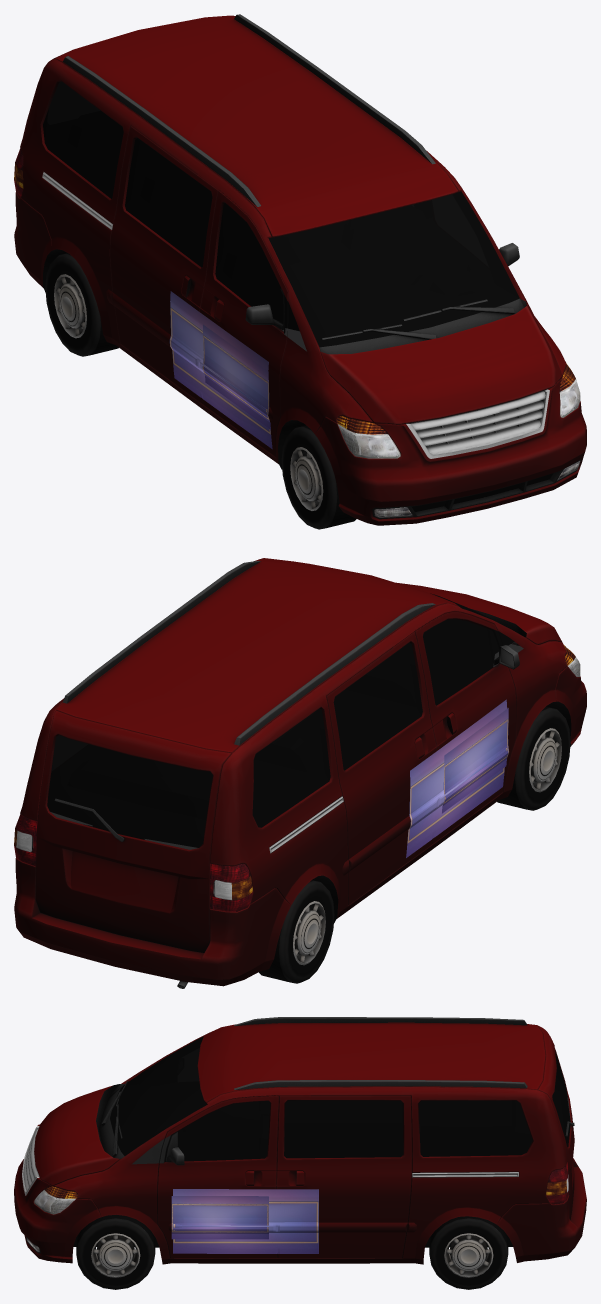
The model's file is minivan.glb.
3 renders of one model, top to bottom at view 1: azimuth 30°, elevation 25°; view 2: azimuth 150°, elevation 25°; view 3: azimuth 270°, elevation 25°, orthographic. The views are drawn at different scales.
Visible parts, largest first — view 1: minivan body, dsRight, Wheel_D002, Wheel_D003, sRight; view 2: minivan body, dsRight, Wheel_D003, Wheel_D002, sRight; view 3: minivan body, dsLeft, Wheel_D, Wheel_D001, sLeft.
Boxes of the visible parts, x1=… form: minivan body: x1=14, y1=14, x2=586, y2=525; dsRight: x1=169, y1=291, x2=272, y2=449; Wheel_D002: x1=281, y1=425, x2=356, y2=529; Wheel_D003: x1=45, y1=253, x2=118, y2=356; sRight: x1=202, y1=324, x2=270, y2=429; minivan body: x1=14, y1=558, x2=586, y2=988; dsRight: x1=406, y1=699, x2=507, y2=857; Wheel_D003: x1=258, y1=880, x2=334, y2=983; Wheel_D002: x1=497, y1=706, x2=570, y2=810; sRight: x1=442, y1=708, x2=508, y2=813; minivan body: x1=14, y1=1017, x2=586, y2=1264; dsLeft: x1=173, y1=1189, x2=318, y2=1253; Wheel_D: x1=76, y1=1215, x2=155, y2=1289; Wheel_D001: x1=429, y1=1216, x2=508, y2=1289; sLeft: x1=171, y1=1196, x2=268, y2=1239.
Size of the model in its own units: 1.87 by 1.76 by 4.61.
Materials: 5 (4 with a texture image).
